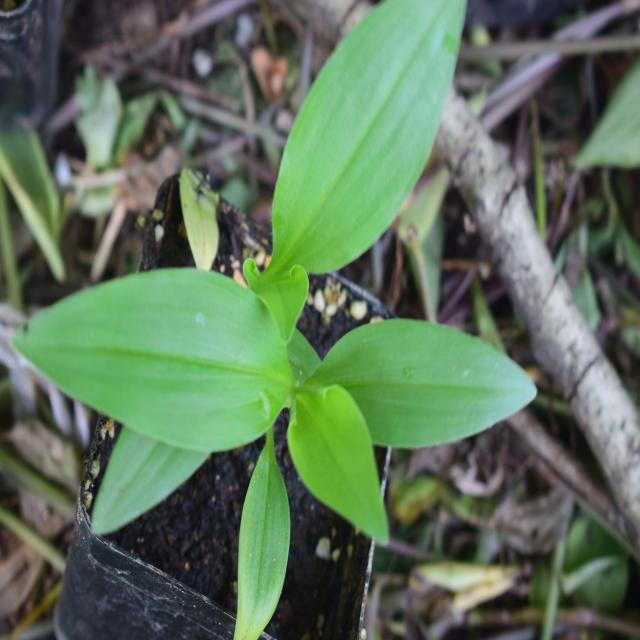Common Dayflower: (32, 261, 534, 559), (266, 0, 484, 256)
